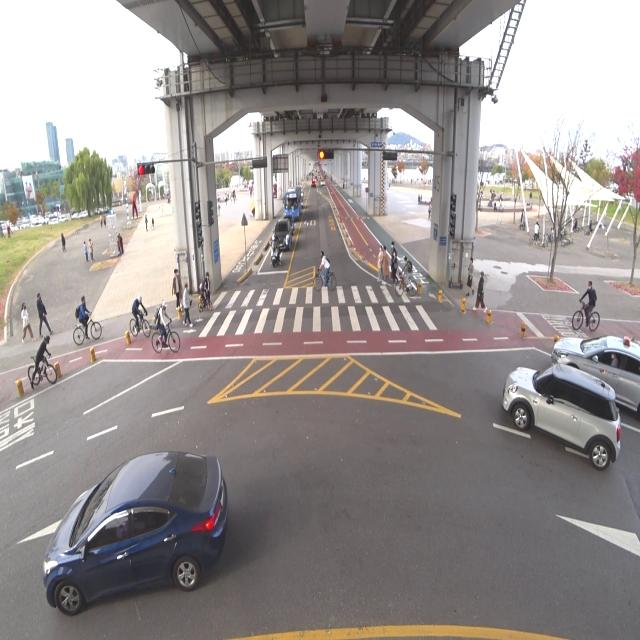Bus: (283, 185, 304, 222)
Car: (24, 399, 250, 630), (496, 353, 618, 476), (544, 314, 640, 422), (276, 220, 291, 249), (284, 213, 296, 230)
Motorcycle: (269, 230, 282, 268)
